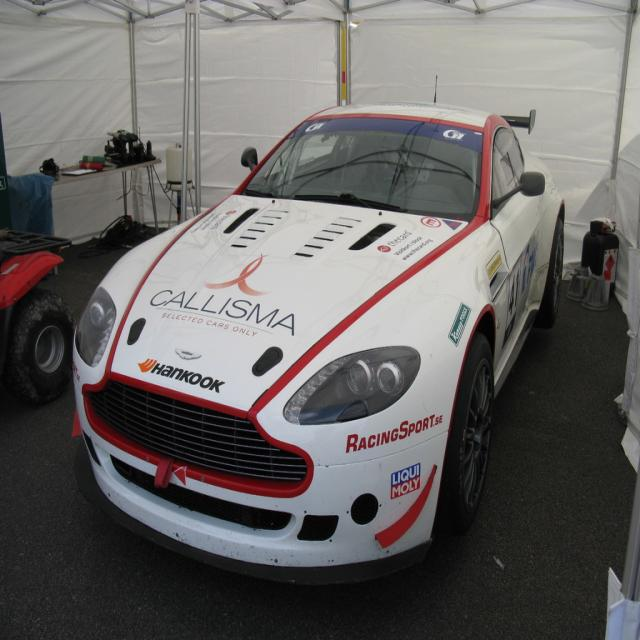car: (63, 72, 567, 578)
